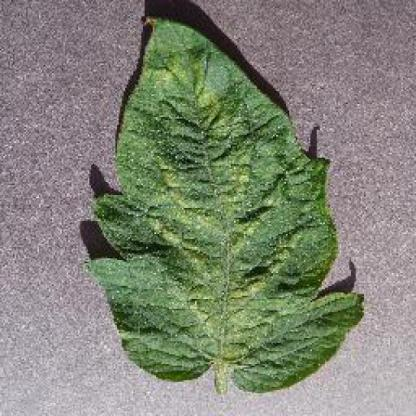Tomato_Spider_Mites: (90, 18, 364, 392)
